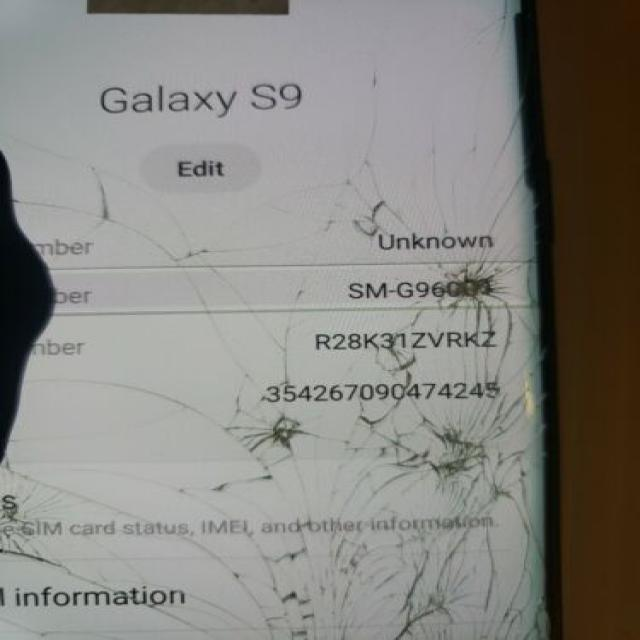Crack: (0, 169, 599, 640)
